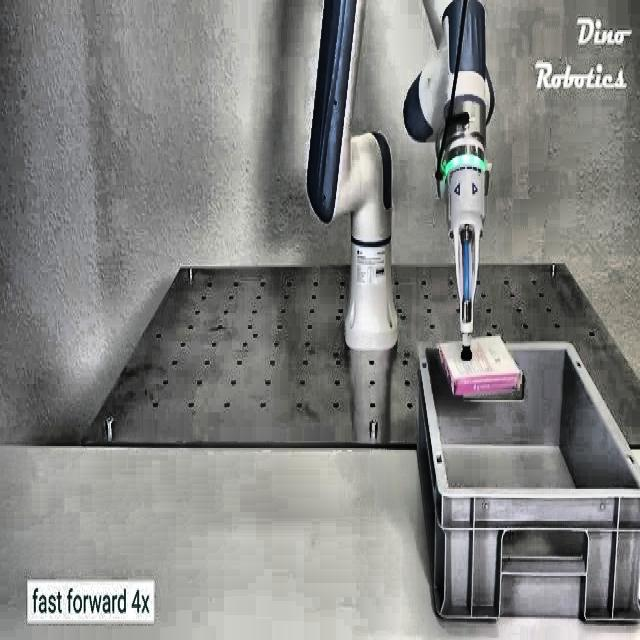robot: (306, 0, 496, 363)
